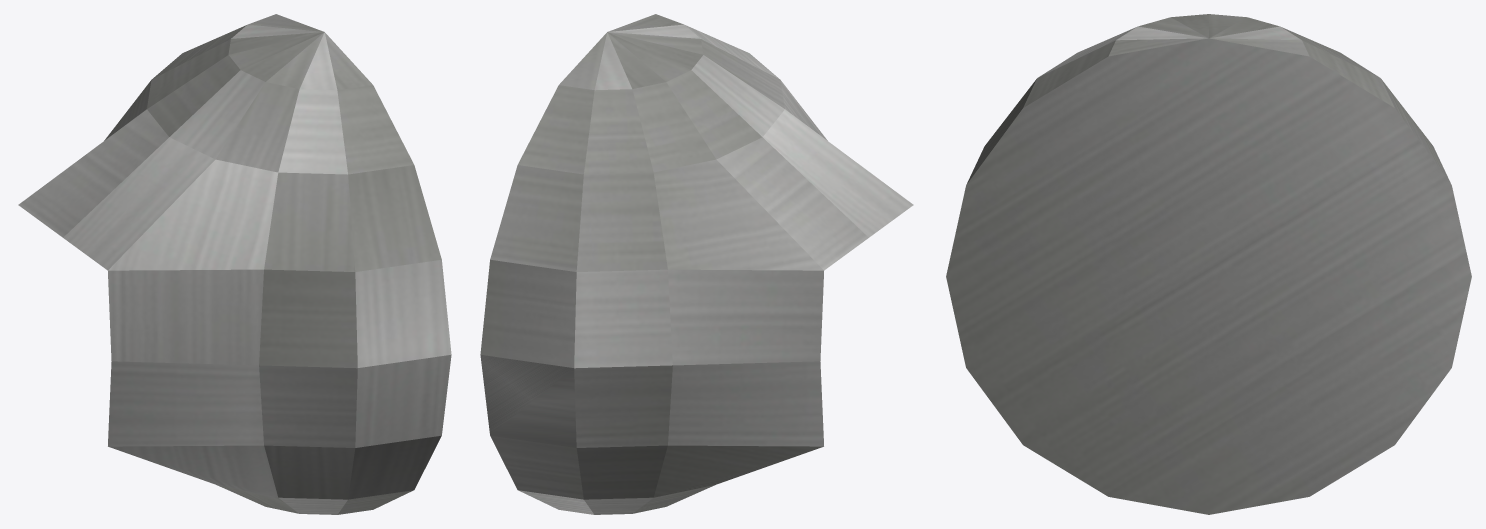
The model's file is cupboardDoorLeftHandle.gltf.
3 renders of one model, left to right at view 1: azimuth 30°, elevation 25°; view 2: azimuth 150°, elevation 25°; view 3: azimuth 270°, elevation 25°, orthographic. The views are drawn at different scales.
Visible parts, largest first — view 1: handle; view 2: handle; view 3: handle.
Boxes of the visible parts, x1,y1,x2,y2 form: handle: [18, 14, 451, 514]; handle: [480, 14, 913, 514]; handle: [946, 14, 1471, 514].
Bounding box in the file's own units: 0.2032 × 0.341 × 0.341.
1 material, 1 textured.
